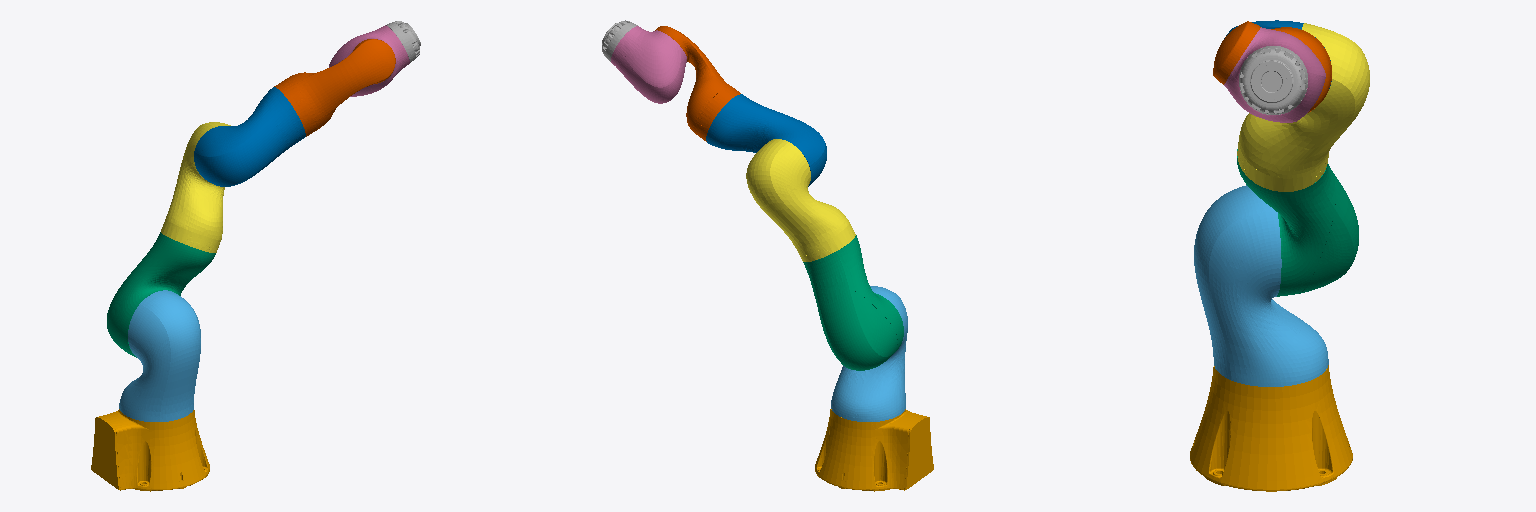
URDF robot description (iiwa_5_DOF_narrowest_range):
<?xml version="1.0" encoding="UTF-8"?>
<robot name="iiwa_5_DOF_narrowest_range">
  <joint name="iiwa_joint_1" type="revolute">
    <origin xyz="0. -0.0093516 0.1575 " rpy="0. 0. 0."/>
    <parent link="world"/>
    <child link="iiwa_link_1"/>
    <axis xyz="0. 0. 1."/>
    <limit lower="-2.0943951" upper="2.0943951" effort="300." velocity="9.9999995"/>
  </joint>
  <joint name="iiwa_joint_2" type="revolute">
    <origin xyz="-0. -0. 0.2025" rpy="1.5707963 -0. -2.961824 "/>
    <parent link="iiwa_link_1"/>
    <child link="iiwa_link_2"/>
    <axis xyz="0. 0. 1."/>
    <limit lower="-1.3089969" upper="1.3089969" effort="300." velocity="9.9999995"/>
  </joint>
  <joint name="iiwa_joint_3" type="revolute">
    <origin xyz="-0.0950601 0.181063 -0. " rpy="1.5707964 -0.0000001 -2.658137 "/>
    <parent link="iiwa_link_2"/>
    <child link="iiwa_link_3"/>
    <axis xyz="0. 0. 1."/>
    <limit lower="-1.3089969" upper="1.3089969" effort="300." velocity="9.9999995"/>
  </joint>
  <joint name="iiwa_joint_4" type="revolute">
    <origin xyz="-0. -0. 0.2155" rpy="1.5707964 -0.0000001 -0.3577924"/>
    <parent link="iiwa_link_3"/>
    <child link="iiwa_link_4"/>
    <axis xyz="0. 0. 1."/>
    <limit lower="-1.5707963" upper="1.5707963" effort="300." velocity="9.9999995"/>
  </joint>
  <joint name="iiwa_joint_5" type="revolute">
    <origin xyz="0.1205561 0.1396656 -0. " rpy="1.5707965 0. 2.4294987"/>
    <parent link="iiwa_link_4"/>
    <child link="iiwa_link_5"/>
    <axis xyz="0. 0. 1."/>
    <limit lower="-1.5707963" upper="1.5707963" effort="300." velocity="9.9999995"/>
  </joint>
  <joint name="iiwa_joint_6" type="revolute">
    <origin xyz="-0. 0. 0.2154999" rpy="1.5707963 -0. -0.3647735"/>
    <parent link="iiwa_link_5"/>
    <child link="iiwa_link_6"/>
    <axis xyz="0. 0. 1."/>
    <limit lower="0." upper="0." effort="300." velocity="9.9999995"/>
  </joint>
  <joint name="iiwa_joint_7" type="revolute">
    <origin xyz="0. 0.081 -0. " rpy="1.5707963 -0.0000002 -3.1415927"/>
    <parent link="iiwa_link_6"/>
    <child link="iiwa_link_7"/>
    <axis xyz="0. 0. 1."/>
    <limit lower="0." upper="0." effort="300." velocity="9.9999995"/>
  </joint>
  <joint name="root_joint" type="fixed">
    <origin xyz="-0. 0.0093516 -0.0000001" rpy="0. 0. 0."/>
    <parent link="iiwa14"/>
    <child link="world"/>
  </joint>
  <link name="iiwa14"/>
  <link name="iiwa_link_1">
    <inertial>
      <origin xyz="0. -0.03 0.12" rpy="0. 0. 0."/>
      <mass value="4."/>
      <inertia ixx="0.1" ixy="0." ixz="0." iyy="0.09" iyz="0." izz="0.02"/>
    </inertial>
    <visual>
      <origin xyz="-0. 0. -0." rpy="0. 0. 0.1797685"/>
      <geometry>
        <mesh filename="meshes/iiwa_link_1_visuals_link_1_mesh.obj" scale="1. 1. 1."/>
      </geometry>
    </visual>
    <visual>
      <origin xyz="-0. 0. -0." rpy="0. 0. 0.1797685"/>
      <geometry>
        <mesh filename="meshes/iiwa_link_1_collisions_link_1_mesh.obj" scale="1. 1. 1."/>
      </geometry>
    </visual>
  </link>
  <link name="iiwa_link_2">
    <inertial>
      <origin xyz="0.0003 0.059 0.042 " rpy="0. 0. 0."/>
      <mass value="4."/>
      <inertia ixx="0.05" ixy="0." ixz="0." iyy="0.018" iyz="0." izz="0.044"/>
    </inertial>
    <visual>
      <origin xyz="0. -0.0000001 -0. " rpy="-0. 0.0000001 0.4834556"/>
      <geometry>
        <mesh filename="meshes/iiwa_link_2_visuals_link_2_mesh.obj" scale="1. 1. 1."/>
      </geometry>
    </visual>
    <visual>
      <origin xyz="0. -0.0000001 -0. " rpy="-0. 0.0000001 0.4834556"/>
      <geometry>
        <mesh filename="meshes/iiwa_link_2_collisions_link_2_mesh.obj" scale="1. 1. 1."/>
      </geometry>
    </visual>
  </link>
  <link name="iiwa_link_3">
    <inertial>
      <origin xyz="0. 0.03 0.13" rpy="0. 0. 0."/>
      <mass value="3."/>
      <inertia ixx="0.08" ixy="0." ixz="0." iyy="0.075" iyz="0." izz="0.01"/>
    </inertial>
    <visual>
      <origin xyz="-0. -0. -0." rpy="-0. -0.0000001 -0.3577924"/>
      <geometry>
        <mesh filename="meshes/iiwa_link_3_visuals_link_3_mesh.obj" scale="1. 1. 1."/>
      </geometry>
    </visual>
    <visual>
      <origin xyz="-0. -0. -0." rpy="-0. -0.0000001 -0.3577924"/>
      <geometry>
        <mesh filename="meshes/iiwa_link_3_collisions_link_3_mesh.obj" scale="1. 1. 1."/>
      </geometry>
    </visual>
  </link>
  <link name="iiwa_link_4">
    <inertial>
      <origin xyz="0. 0.067 0.034" rpy="0. 0. 0."/>
      <mass value="2.7"/>
      <inertia ixx="0.03" ixy="0." ixz="0." iyy="0.01" iyz="0." izz="0.029"/>
    </inertial>
    <visual>
      <origin xyz="0. -0. -0." rpy="-0.0000001 -0.0000001 -0.712094 "/>
      <geometry>
        <mesh filename="meshes/iiwa_link_4_visuals_link_4_mesh.obj" scale="1. 1. 1."/>
      </geometry>
    </visual>
    <visual>
      <origin xyz="0. -0. -0." rpy="-0.0000001 -0.0000001 -0.712094 "/>
      <geometry>
        <mesh filename="meshes/iiwa_link_4_collisions_link_4_mesh.obj" scale="1. 1. 1."/>
      </geometry>
    </visual>
  </link>
  <link name="iiwa_link_5">
    <inertial>
      <origin xyz="0.0001 0.021 0.076 " rpy="0. 0. 0."/>
      <mass value="1.7"/>
      <inertia ixx="0.02" ixy="0." ixz="0." iyy="0.018" iyz="0." izz="0.005"/>
    </inertial>
    <visual>
      <origin xyz="-0. -0. -0.0000001" rpy="-0.0000001 -0. -0.3647735"/>
      <geometry>
        <mesh filename="meshes/iiwa_link_5_visuals_link_5_mesh.obj" scale="1. 1. 1."/>
      </geometry>
    </visual>
    <visual>
      <origin xyz="-0. -0. -0.0000001" rpy="-0.0000001 -0. -0.3647735"/>
      <geometry>
        <mesh filename="meshes/iiwa_link_5_collisions_link_5_mesh.obj" scale="1. 1. 1."/>
      </geometry>
    </visual>
  </link>
  <link name="iiwa_link_6">
    <inertial>
      <origin xyz="0. 0.0006 0.0004" rpy="0. 0. 0."/>
      <mass value="1.8"/>
      <inertia ixx="0.005" ixy="0." ixz="0." iyy="0.0036" iyz="0." izz="0.0047"/>
    </inertial>
    <visual>
      <origin xyz="0. 0. -0." rpy="0. 0.0000001 0. "/>
      <geometry>
        <mesh filename="meshes/iiwa_link_6_visuals_link_6_mesh.obj" scale="1. 1. 1."/>
      </geometry>
    </visual>
    <visual>
      <origin xyz="0. 0. -0." rpy="0. 0.0000001 0. "/>
      <geometry>
        <mesh filename="meshes/iiwa_link_6_collisions_link_6_mesh.obj" scale="1. 1. 1."/>
      </geometry>
    </visual>
  </link>
  <link name="iiwa_link_7">
    <inertial>
      <origin xyz="0. 0. 0.02" rpy="0. 0. 0."/>
      <mass value="0.3"/>
      <inertia ixx="0.001" ixy="0." ixz="0." iyy="0.001" iyz="0." izz="0.001"/>
    </inertial>
    <visual>
      <origin xyz="-0. -0. -0." rpy="0. 0. -0."/>
      <geometry>
        <mesh filename="meshes/iiwa_link_7_visuals_link_7_mesh.obj" scale="1. 1. 1."/>
      </geometry>
    </visual>
    <visual>
      <origin xyz="-0. -0. -0." rpy="0. 0. -0."/>
      <geometry>
        <mesh filename="meshes/iiwa_link_7_collisions_link_7_mesh.obj" scale="1. 1. 1."/>
      </geometry>
    </visual>
  </link>
  <link name="world">
    <inertial>
      <origin xyz="-0.1 0. 0.07" rpy="0. 0. 0."/>
      <mass value="5."/>
      <inertia ixx="0.05" ixy="0." ixz="0." iyy="0.06" iyz="0." izz="0.03"/>
    </inertial>
    <visual>
      <origin xyz="0. -0.0093516 0.0000001" rpy="0. 0. 0."/>
      <geometry>
        <mesh filename="meshes/world_visuals_link_0_mesh.obj" scale="1. 1. 1."/>
      </geometry>
    </visual>
    <visual>
      <origin xyz="0. -0.0093516 0.0000001" rpy="0. 0. 0."/>
      <geometry>
        <mesh filename="meshes/world_collisions_link_0_mesh.obj" scale="1. 1. 1."/>
      </geometry>
    </visual>
  </link>
</robot>

--- Render facts (derived) ---
Views: 3 orthographic renders of the robot side by side, from view 1: azimuth 30°, elevation 25°; view 2: azimuth 150°, elevation 25°; view 3: azimuth 270°, elevation 25°.
Robot: iiwa_5_DOF_narrowest_range — 9 links, 8 joints (7 revolute, 1 fixed); root link iiwa14; default pose: all joints at 0.
Visible links, largest first — view 1: iiwa_link_1, world, iiwa_link_4, iiwa_link_5, iiwa_link_2, iiwa_link_3, iiwa_link_6, iiwa_link_7; view 2: iiwa_link_2, world, iiwa_link_3, iiwa_link_4, iiwa_link_1, iiwa_link_6, iiwa_link_5, iiwa_link_7; view 3: iiwa_link_1, world, iiwa_link_3, iiwa_link_2, iiwa_link_7, iiwa_link_6, iiwa_link_5.
Link boxes in pixels (left/top/right/bottom): iiwa_link_1: left=119, top=290, right=200, bottom=421; world: left=91, top=409, right=209, bottom=491; iiwa_link_4: left=194, top=87, right=305, bottom=186; iiwa_link_5: left=274, top=39, right=395, bottom=136; iiwa_link_2: left=107, top=232, right=215, bottom=357; iiwa_link_3: left=161, top=122, right=230, bottom=252; iiwa_link_6: left=329, top=25, right=409, bottom=96; iiwa_link_7: left=386, top=21, right=420, bottom=62; iiwa_link_2: left=803, top=235, right=903, bottom=370; world: left=815, top=409, right=933, bottom=491; iiwa_link_3: left=746, top=139, right=855, bottom=261; iiwa_link_4: left=706, top=94, right=826, bottom=186; iiwa_link_1: left=831, top=286, right=907, bottom=421; iiwa_link_6: left=611, top=26, right=686, bottom=103; iiwa_link_5: left=655, top=26, right=740, bottom=141; iiwa_link_7: left=602, top=20, right=637, bottom=61; iiwa_link_1: left=1194, top=185, right=1328, bottom=386; world: left=1190, top=365, right=1352, bottom=491; iiwa_link_3: left=1237, top=23, right=1369, bottom=191; iiwa_link_2: left=1237, top=149, right=1358, bottom=296; iiwa_link_7: left=1239, top=46, right=1307, bottom=114; iiwa_link_6: left=1224, top=27, right=1325, bottom=122; iiwa_link_5: left=1213, top=21, right=1331, bottom=112.
Size in the robot's own frame: 0.824 by 0.2688 by 0.972 metres.
14 mesh visuals loaded from 16 distinct referenced files (14 OBJ); not drawn: 2 (reference not matched to a file when rendering).
